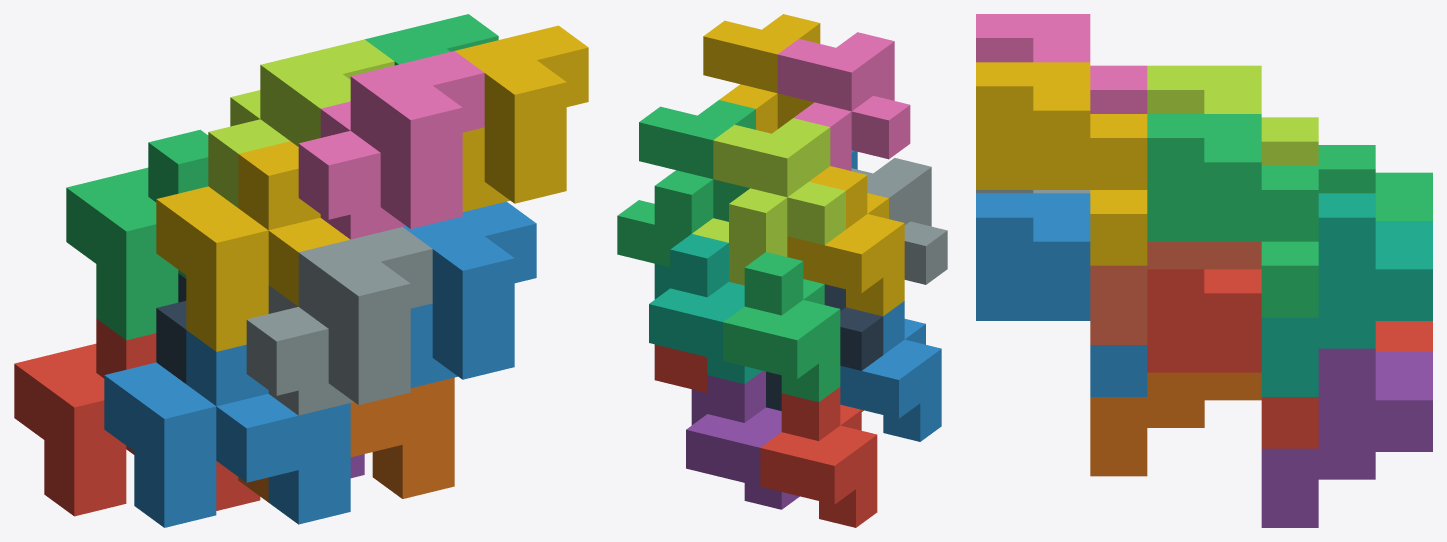
The model's file is tiling.obj.
3 views of the same model, side by side, from view 1: azimuth 30°, elevation 25°; view 2: azimuth 150°, elevation 25°; view 3: azimuth 270°, elevation 25° (orthographic). The views are drawn at different scales.
Parts seen in each view (by area): view 1: copy_1_domain_2, copy_2_domain_4, copy_2_domain_2, copy_1_domain_4, copy_2_domain_8, copy_2_domain_6, copy_1_domain_1, copy_1_domain_3, copy_2_domain_3, copy_1_domain_6, copy_2_domain_7, copy_2_domain_1; view 2: copy_2_domain_3, copy_2_domain_7, copy_1_domain_3, copy_2_domain_4, copy_1_domain_1, copy_1_domain_4, copy_1_domain_7, copy_1_domain_5, copy_1_domain_2, copy_2_domain_8, copy_2_domain_2, copy_2_domain_1 (+1 smaller); view 3: copy_2_domain_7, copy_2_domain_8, copy_1_domain_7, copy_1_domain_5, copy_2_domain_6, copy_2_domain_5, copy_1_domain_6, copy_2_domain_3, copy_2_domain_4, copy_1_domain_8, copy_1_domain_3, copy_1_domain_1.
Part boxes in pixels (x1,y1,x2,y2): copy_1_domain_2: (104,330,350,527); copy_2_domain_4: (298,51,484,239); copy_2_domain_2: (246,227,432,415); copy_1_domain_4: (156,141,349,351); copy_2_domain_8: (455,25,588,211); copy_2_domain_6: (403,201,536,387); copy_1_domain_1: (14,318,260,516); copy_1_domain_3: (66,129,208,340); copy_2_domain_3: (208,39,394,207); copy_1_domain_6: (238,377,454,502); copy_2_domain_7: (365,14,498,65); copy_2_domain_1: (156,273,186,383); copy_2_domain_3: (692,118,845,285); copy_2_domain_7: (617,100,755,267); copy_1_domain_3: (723,252,840,402); copy_2_domain_4: (777,32,910,170); copy_1_domain_1: (760,387,877,527); copy_1_domain_4: (787,166,904,316); copy_1_domain_7: (649,234,762,383); copy_1_domain_5: (686,371,799,509); copy_1_domain_2: (840,301,941,441); copy_2_domain_8: (703,14,820,133); copy_2_domain_2: (851,158,947,284); copy_2_domain_1: (766,284,883,410); copy_2_domain_7: (1147,114,1318,317); copy_2_domain_8: (976,62,1147,265); copy_1_domain_7: (1261,193,1432,396); copy_1_domain_5: (1261,348,1432,527); copy_2_domain_6: (976,193,1147,396); copy_2_domain_5: (1147,269,1318,448); copy_1_domain_6: (1090,372,1261,476); copy_2_domain_3: (1147,65,1318,165); copy_2_domain_4: (976,14,1147,113); copy_1_domain_8: (1090,241,1261,344); copy_1_domain_3: (1318,145,1432,220); copy_1_domain_1: (1375,321,1432,351).
Bounding box in the file's own units: 7 × 9 × 8.
